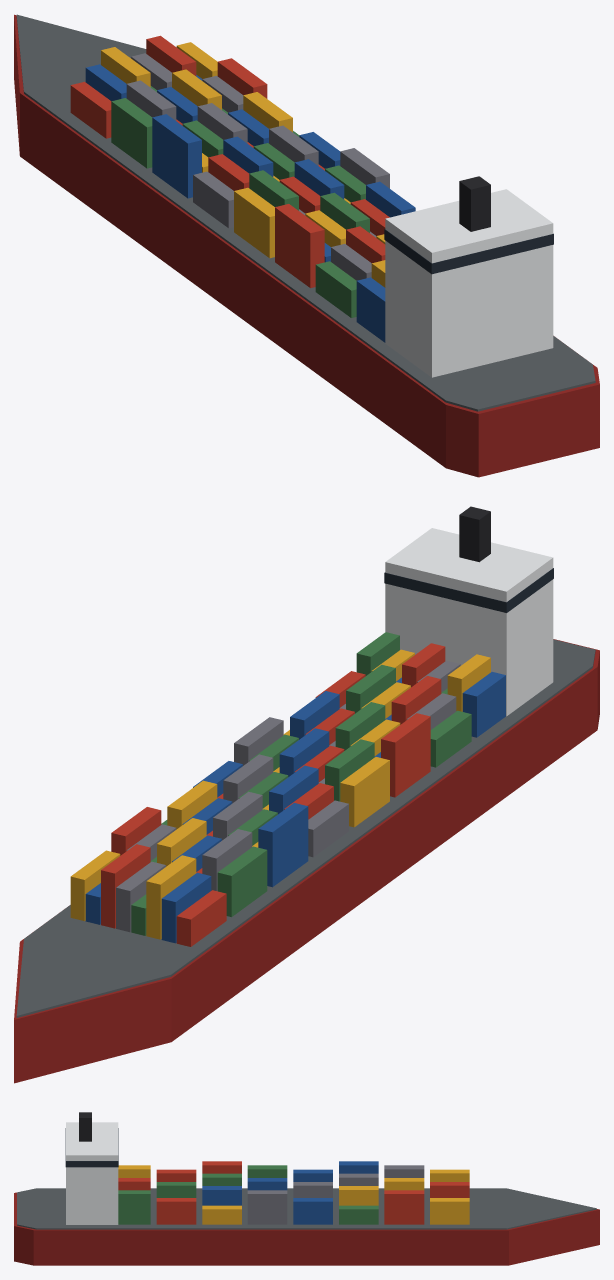
3 views of the same model, one above another, from view 1: azimuth 30°, elevation 25°; view 2: azimuth 150°, elevation 25°; view 3: azimuth 270°, elevation 25° (orthographic). The views are drawn at different scales.
Bounding box in the file's own units: 30 × 44 × 180.
